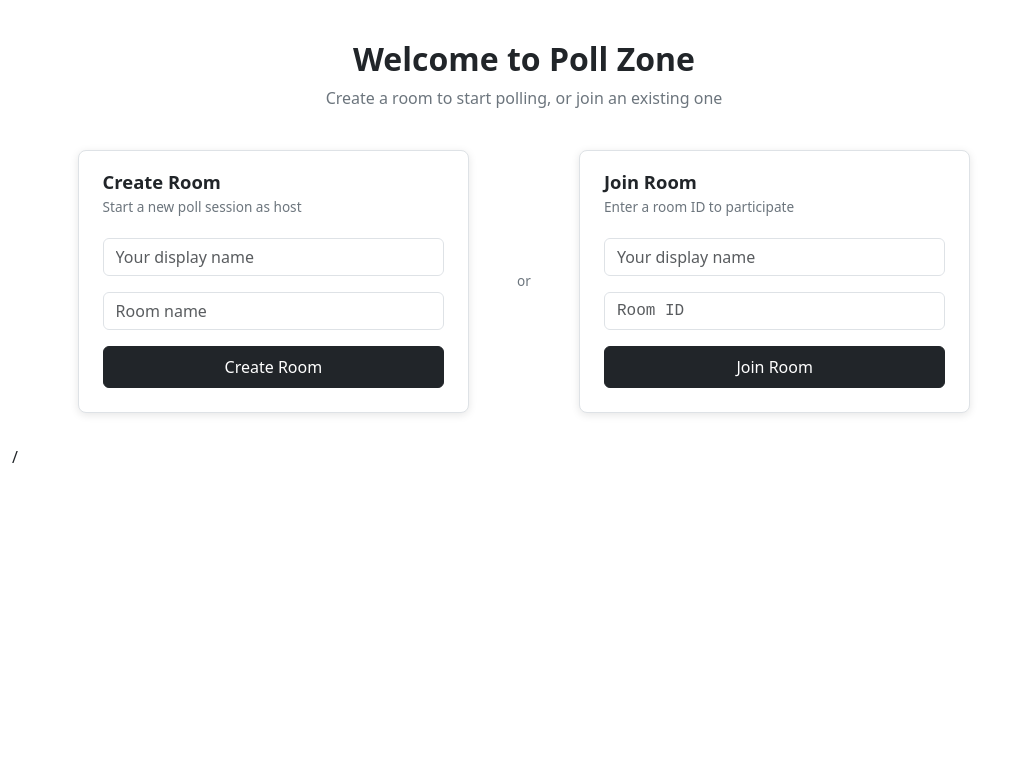
Test case: Home Flow Tests › Host Create Room Flow › shows error when createRoom fails
Type "Bob" into the field with placeholder "Your display name" below "Start a new poll session as host" at (273, 257), box 103,238 -> 444,276
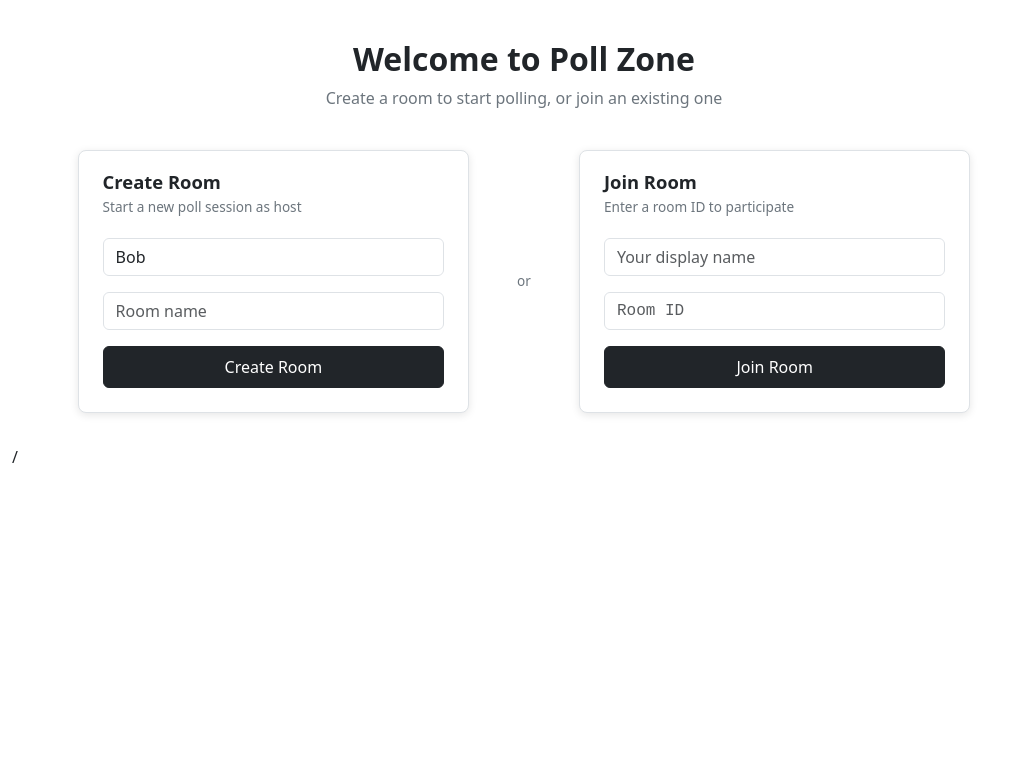
Type "Room" into the field with placeholder "Room name" at (273, 311), box 103,292 -> 444,330
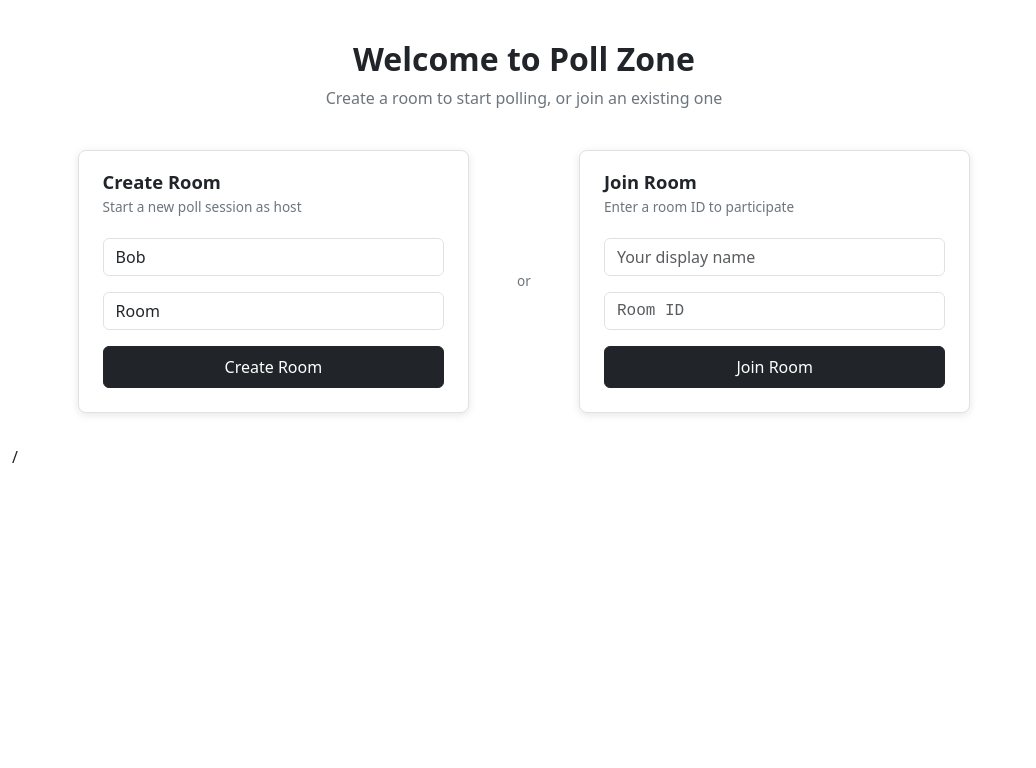
Click the button "Create Room" at (273, 367), box 103,346 -> 444,388
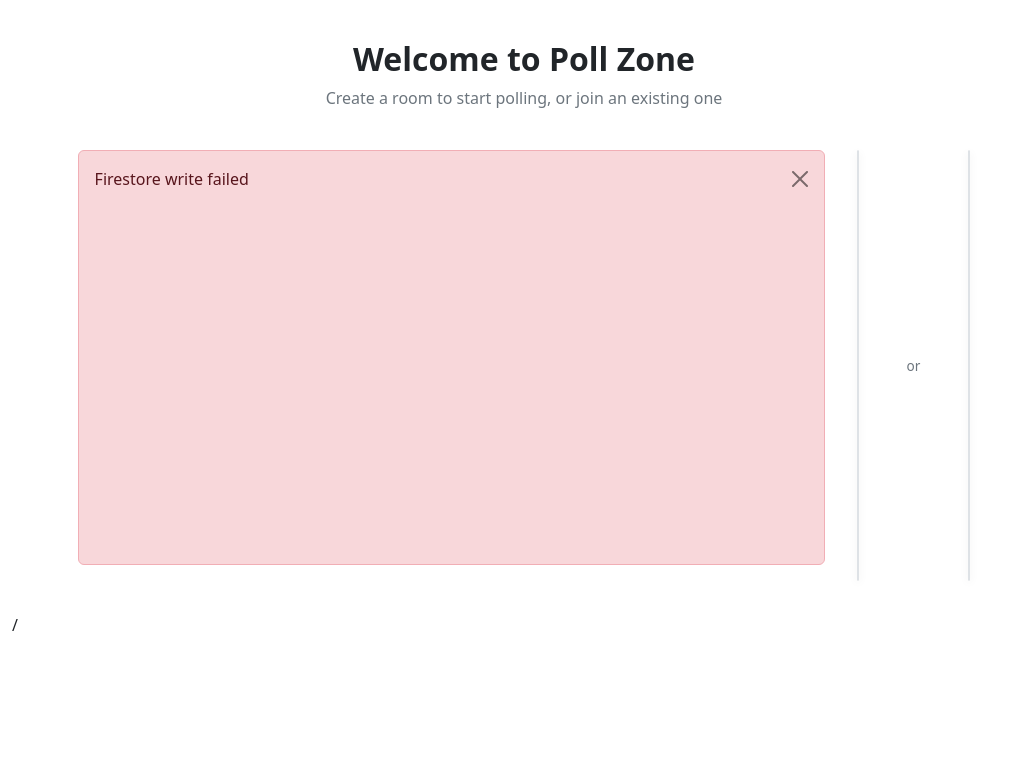
Expected: the text "Firestore write failed" is shown, 78,150 -> 825,565
